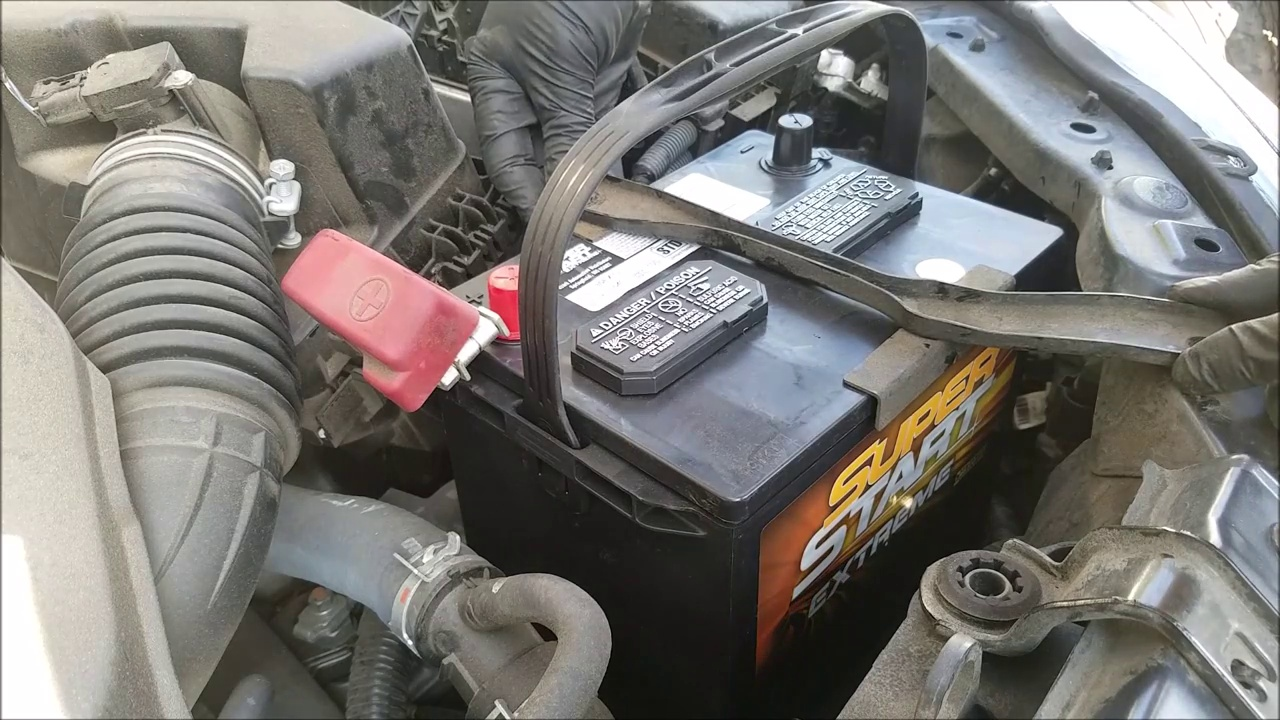battery: (430, 123, 1065, 506)
pos_disconnected: (288, 227, 559, 390)
